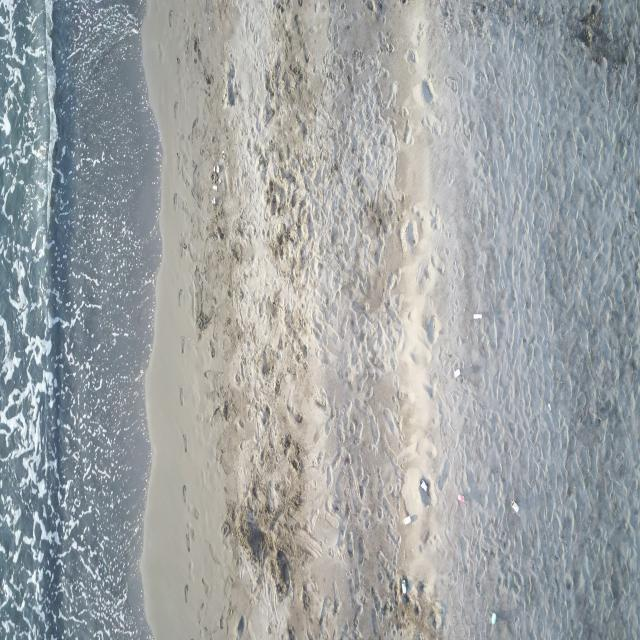Garbage: (420, 477, 430, 506), (422, 79, 431, 101), (400, 576, 407, 595), (403, 515, 415, 523), (511, 500, 519, 512), (420, 479, 427, 491), (489, 612, 495, 624), (457, 493, 464, 503), (212, 163, 219, 172), (473, 312, 482, 319), (453, 369, 460, 377), (211, 196, 216, 204), (212, 183, 216, 190), (548, 403, 551, 408)
